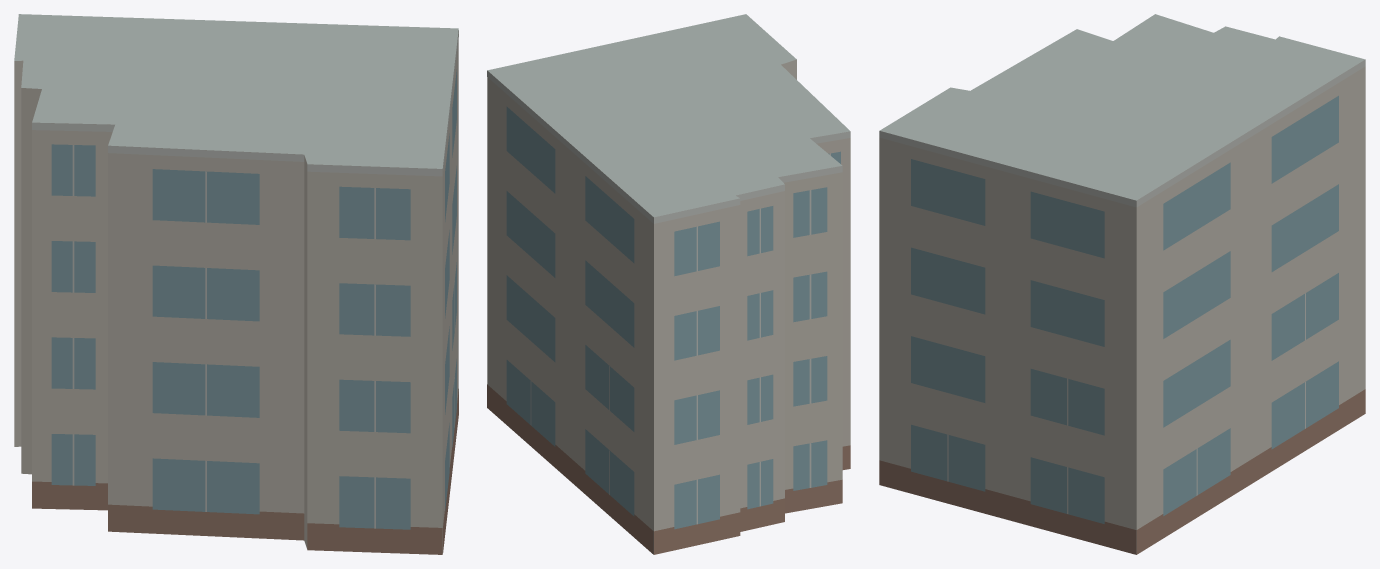
File: survey-upis-32884915.glb
The picture shows the model from 3 angles, left to right: view 1: azimuth 30°, elevation 25°; view 2: azimuth 150°, elevation 25°; view 3: azimuth 270°, elevation 25°; orthographic projection. The views are drawn at different scales.
Parts seen in each view (by area): view 1: survey-upis-32884915.tmp; view 2: survey-upis-32884915.tmp; view 3: survey-upis-32884915.tmp.
Part boxes in pixels (bbox=[...]): survey-upis-32884915.tmp: bbox=[14, 14, 458, 554]; survey-upis-32884915.tmp: bbox=[487, 14, 850, 554]; survey-upis-32884915.tmp: bbox=[879, 14, 1365, 554].
Bounding box in the file's own units: 14.24 × 12.6 × 15.68.
